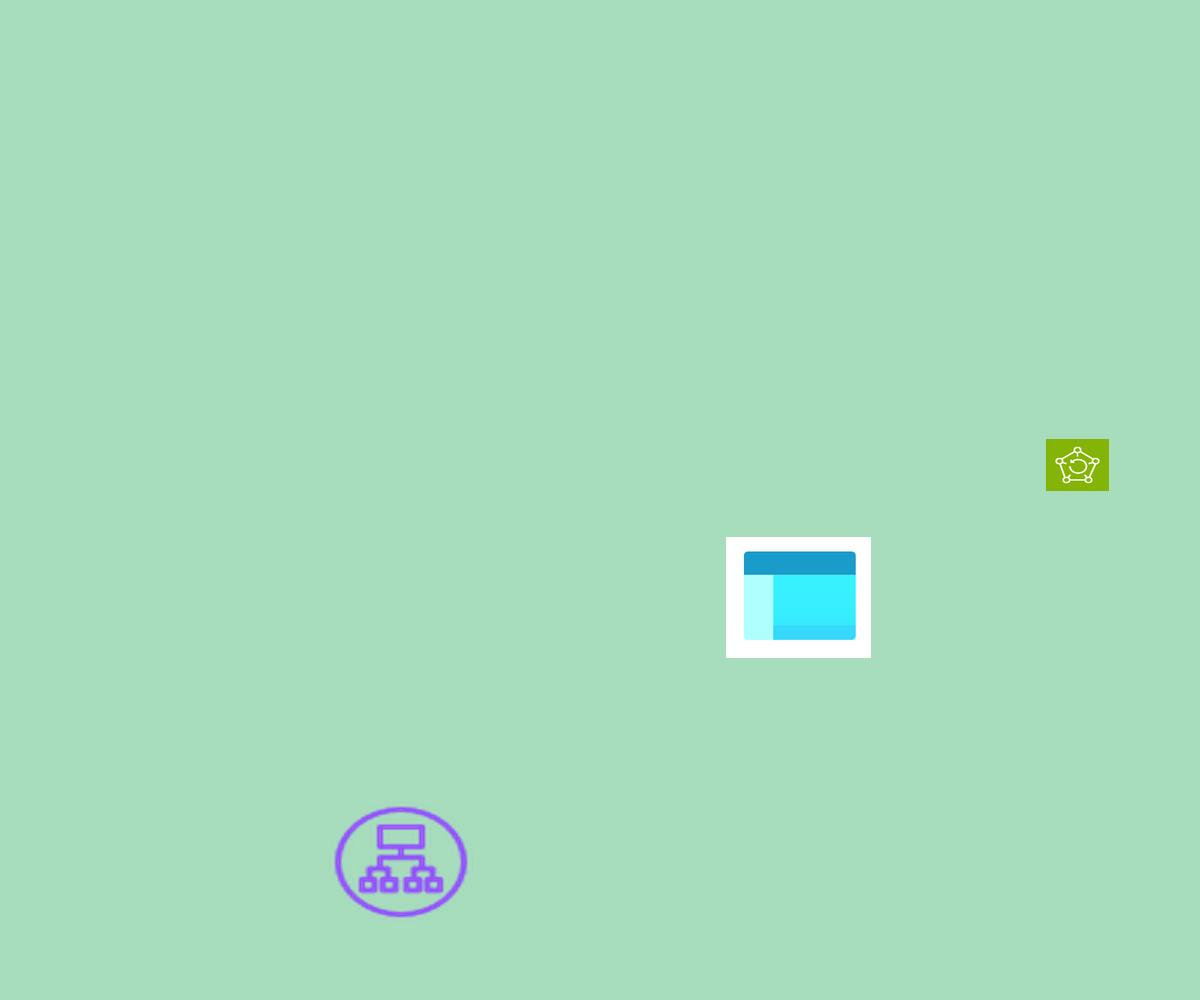AWS-Backup: (1046, 439, 1109, 491)
AWS-Res_Elastic-Load-Balancing_Application-Load-Balancer: (329, 802, 473, 922)
Azure_management-portal: (726, 537, 871, 658)
